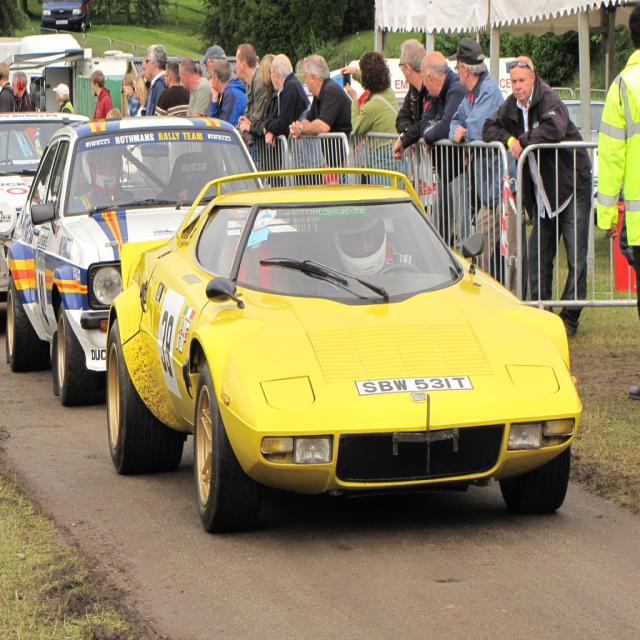car: (88, 158, 565, 520)
